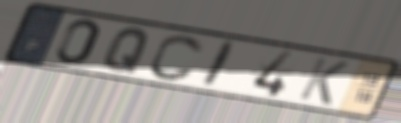0: (53, 18, 103, 66)
4: (248, 49, 293, 99)
C: (147, 33, 207, 83)
I: (197, 39, 240, 90)
K: (295, 55, 352, 108)
Q: (100, 26, 153, 75)
